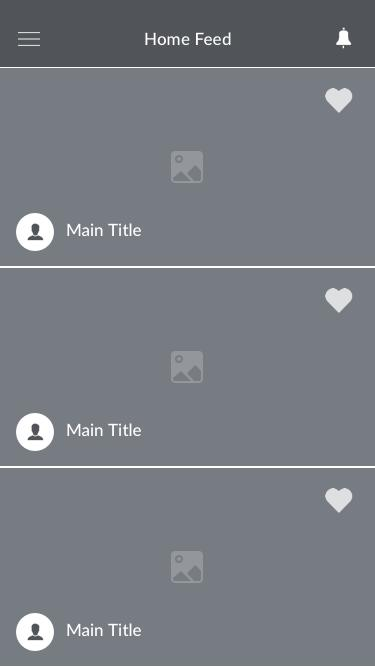Icon: (16, 413, 56, 452), (17, 214, 55, 253), (17, 613, 55, 651), (324, 488, 353, 515), (324, 288, 352, 314), (325, 89, 353, 114), (18, 32, 42, 48), (336, 27, 353, 49)
Image: (1, 468, 375, 666), (1, 269, 375, 466), (1, 71, 375, 266)
Text: (145, 32, 232, 48), (66, 622, 143, 638), (66, 422, 143, 437), (67, 223, 143, 238)
Toolbar: (1, 1, 375, 68)
